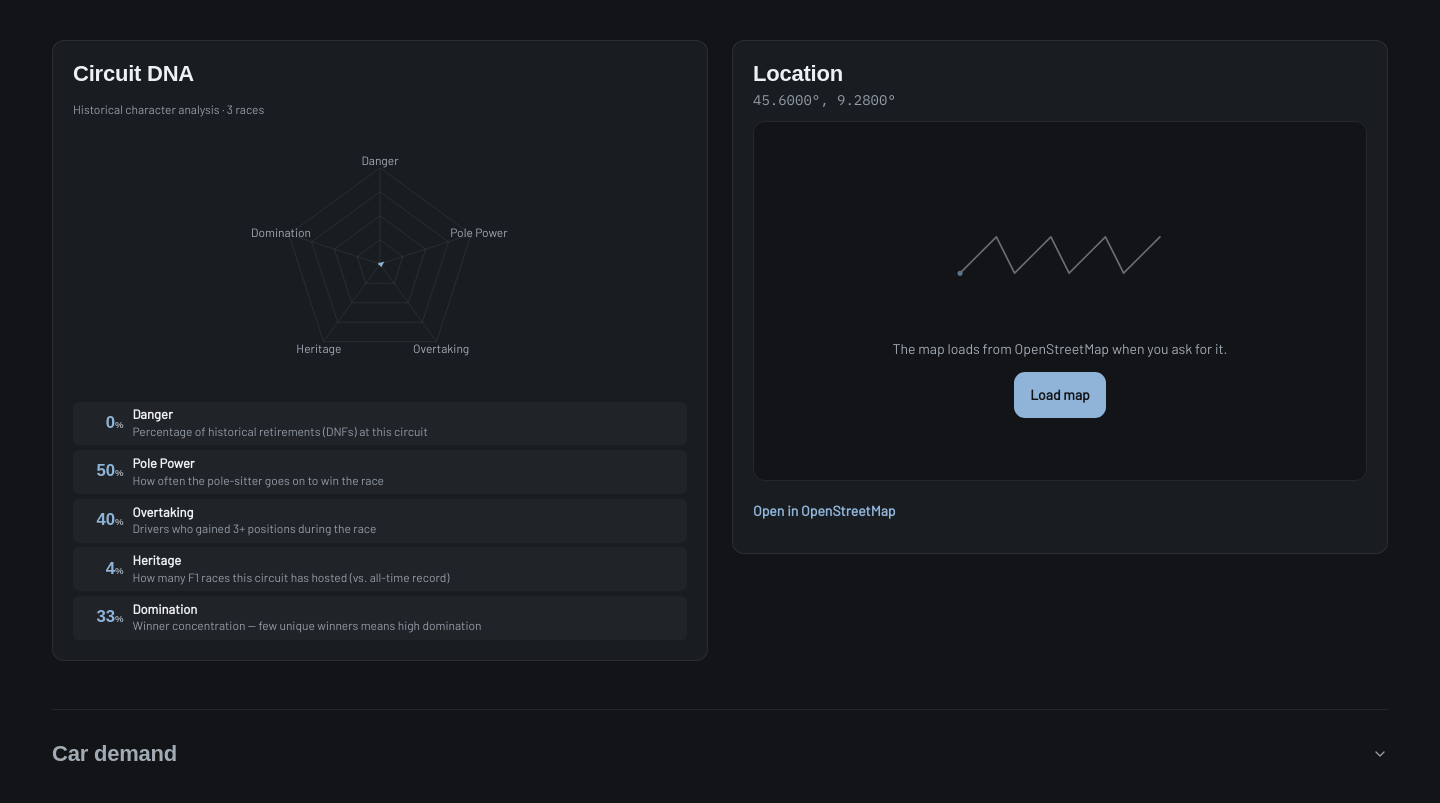
Test case: Circuit detail page › renders hero, spec strip, results, records, DNA, location and a collapsed car demand in order
The image size is (1440, 803).
(page scrolled)
Click the button "Car demand".
click(114, 754)  # box [52,730,1388,778]
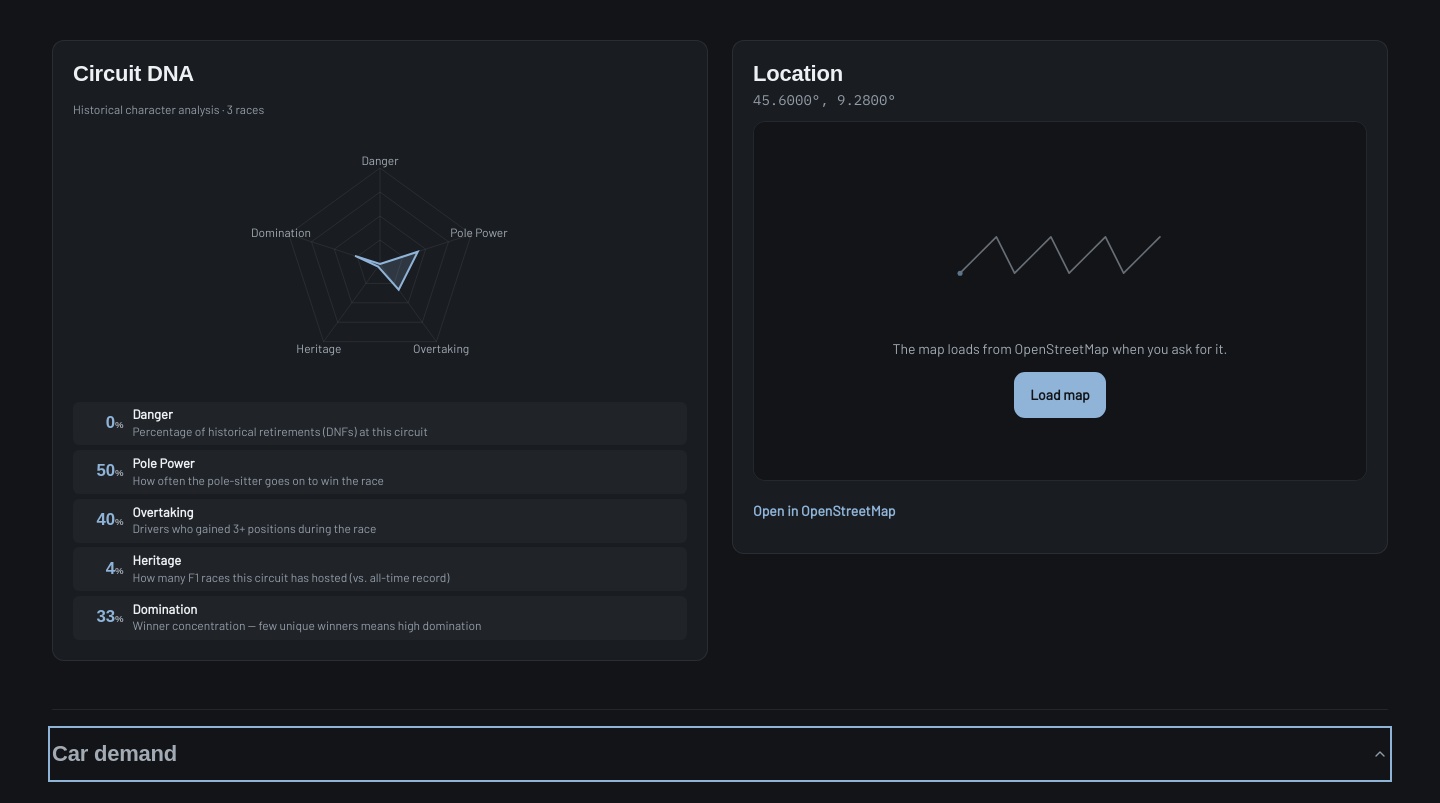
Now the button "Car demand" is expanded, box [52,730,1388,778]
